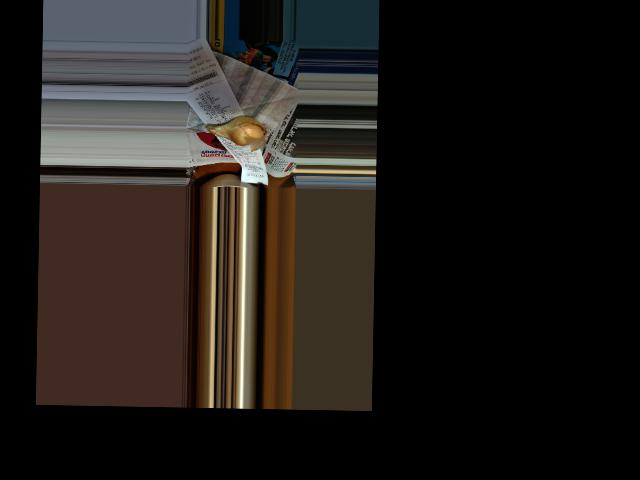onion: (210, 112, 265, 145)
